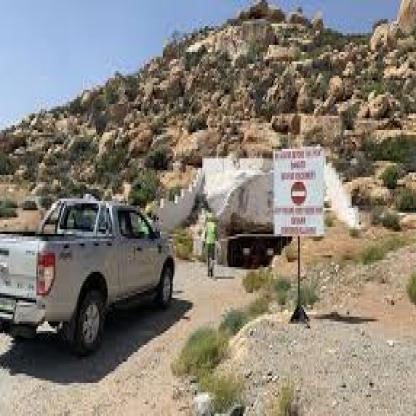light_vehicle: (0, 193, 193, 359)
